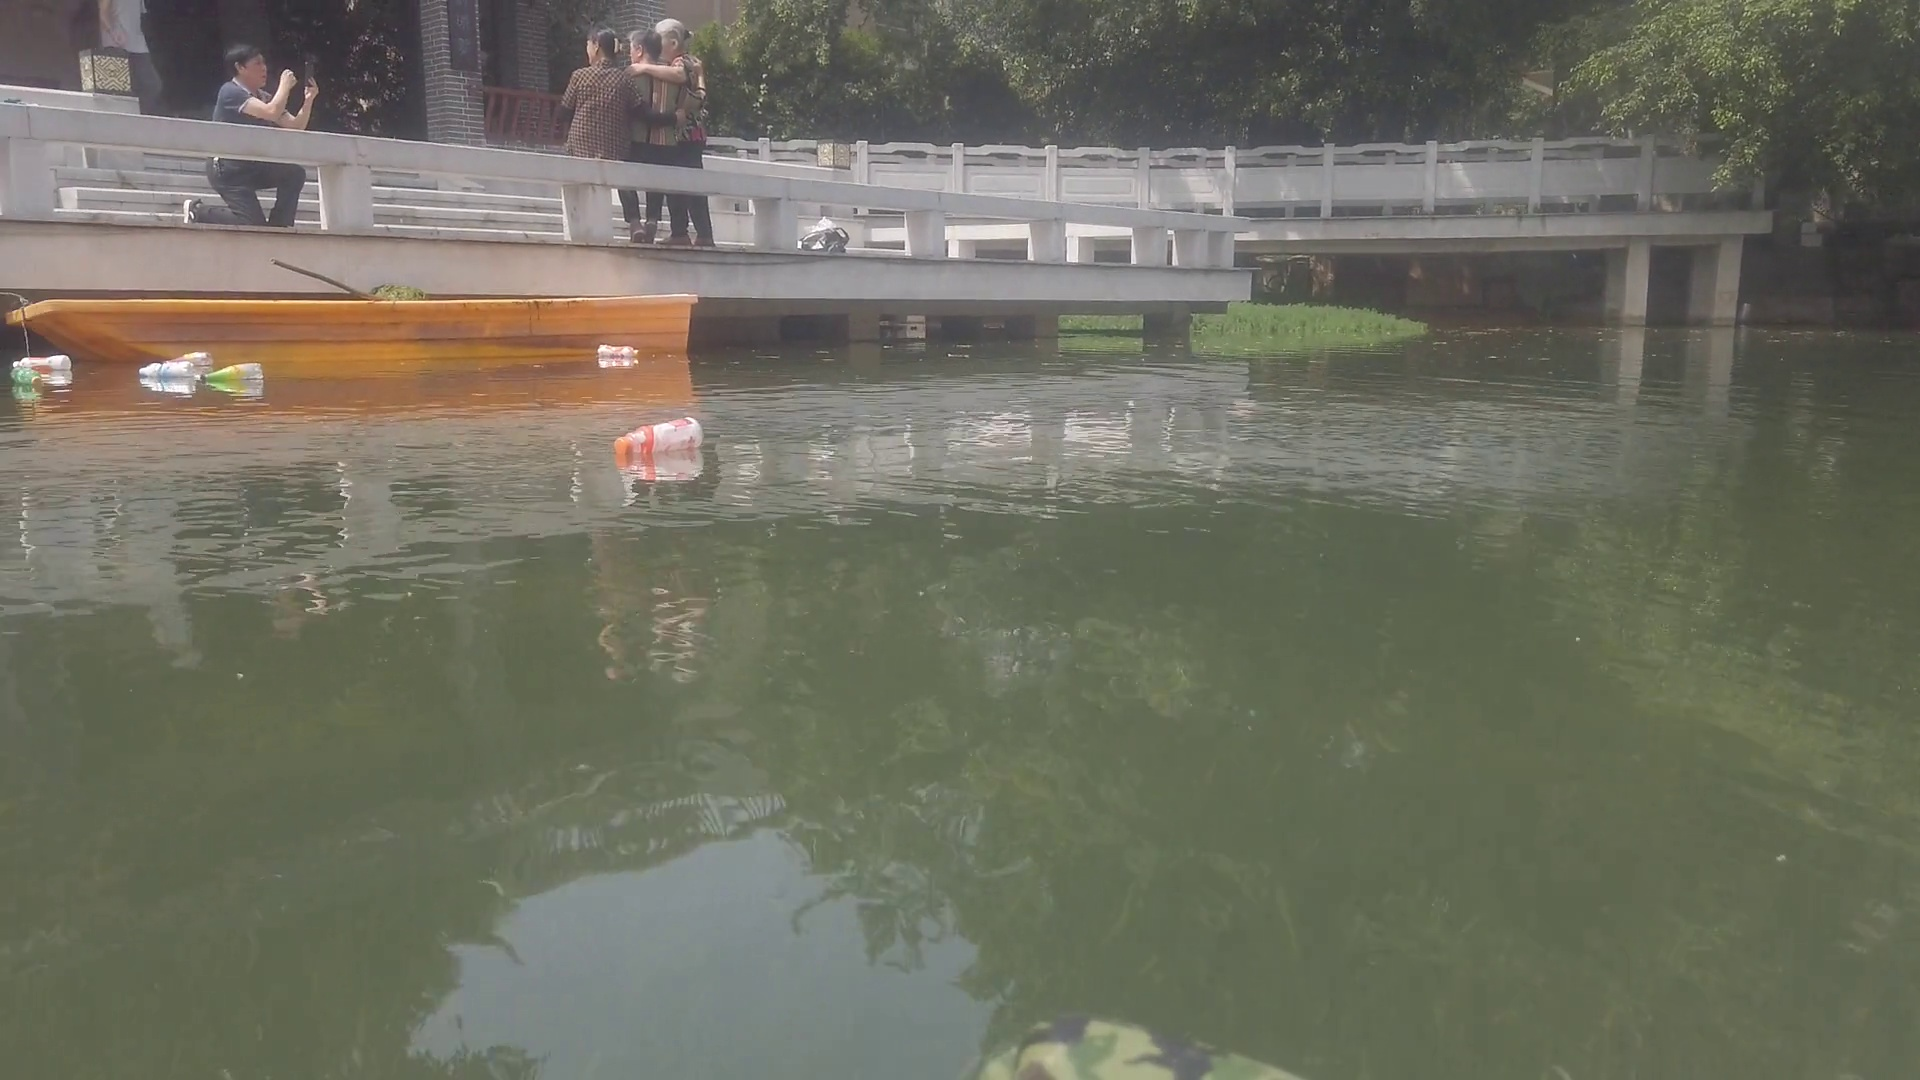bottle: (613, 419, 703, 458), (196, 364, 264, 386), (13, 356, 70, 375), (160, 353, 218, 371), (596, 342, 638, 361), (135, 363, 191, 375), (12, 365, 41, 386)
